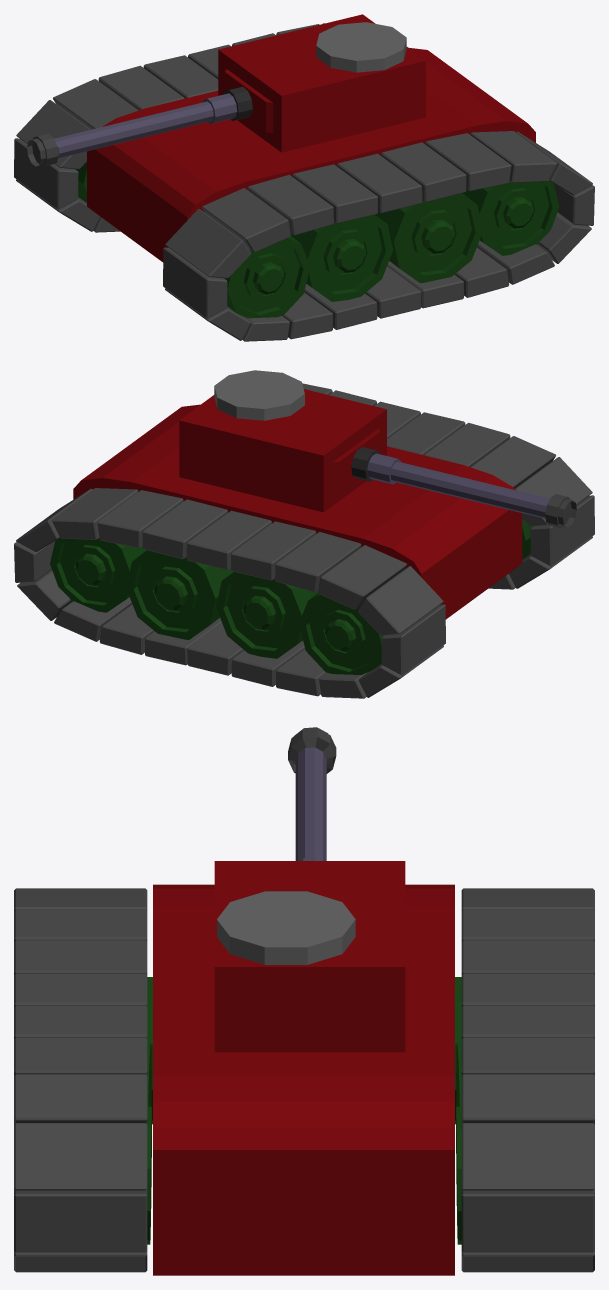
The model's file is tank.obj.
3 views of the same model, one above another, from view 1: azimuth 30°, elevation 25°; view 2: azimuth 150°, elevation 25°; view 3: azimuth 270°, elevation 25° (orthographic). The views are drawn at different scales.
Visible parts, largest first — view 1: Cube, Cube.001, Cylinder, Cube.002, Cylinder.002, Cylinder.004, Cylinder.003, Cylinder.001; view 2: Cube, Cube.001, Cylinder, Cube.002, Cylinder.002, Cylinder.004, Cylinder.003, Cylinder.001; view 3: Cube, Cube.001, Cube.002, Cylinder.004, Cylinder.002, Cylinder, Cylinder.003.
Part boxes in pixels (bbox=[...]): Cube: bbox=[14, 23, 594, 341]; Cube.001: bbox=[87, 48, 535, 262]; Cylinder: bbox=[75, 162, 559, 318]; Cube.002: bbox=[218, 14, 425, 152]; Cylinder.002: bbox=[54, 93, 237, 158]; Cylinder.004: bbox=[316, 22, 406, 72]; Cylinder.003: bbox=[27, 133, 58, 167]; Cylinder.001: bbox=[223, 86, 252, 120]; Cube: bbox=[14, 383, 594, 698]; Cube.001: bbox=[73, 404, 522, 619]; Cylinder: bbox=[50, 519, 533, 674]; Cube.002: bbox=[179, 389, 386, 512]; Cylinder.002: bbox=[367, 453, 549, 518]; Cylinder.004: bbox=[214, 370, 304, 420]; Cylinder.003: bbox=[545, 494, 576, 528]; Cylinder.001: bbox=[351, 447, 380, 481]; Cube: bbox=[14, 888, 594, 1272]; Cube.001: bbox=[153, 884, 454, 1275]; Cube.002: bbox=[214, 861, 405, 1052]; Cylinder.004: bbox=[217, 891, 355, 964]; Cylinder.002: bbox=[295, 747, 326, 860]; Cylinder: bbox=[147, 977, 461, 1244]; Cylinder.003: bbox=[288, 727, 336, 773].
Size of the model in its own units: 8.43 by 3.39 by 6.1.
